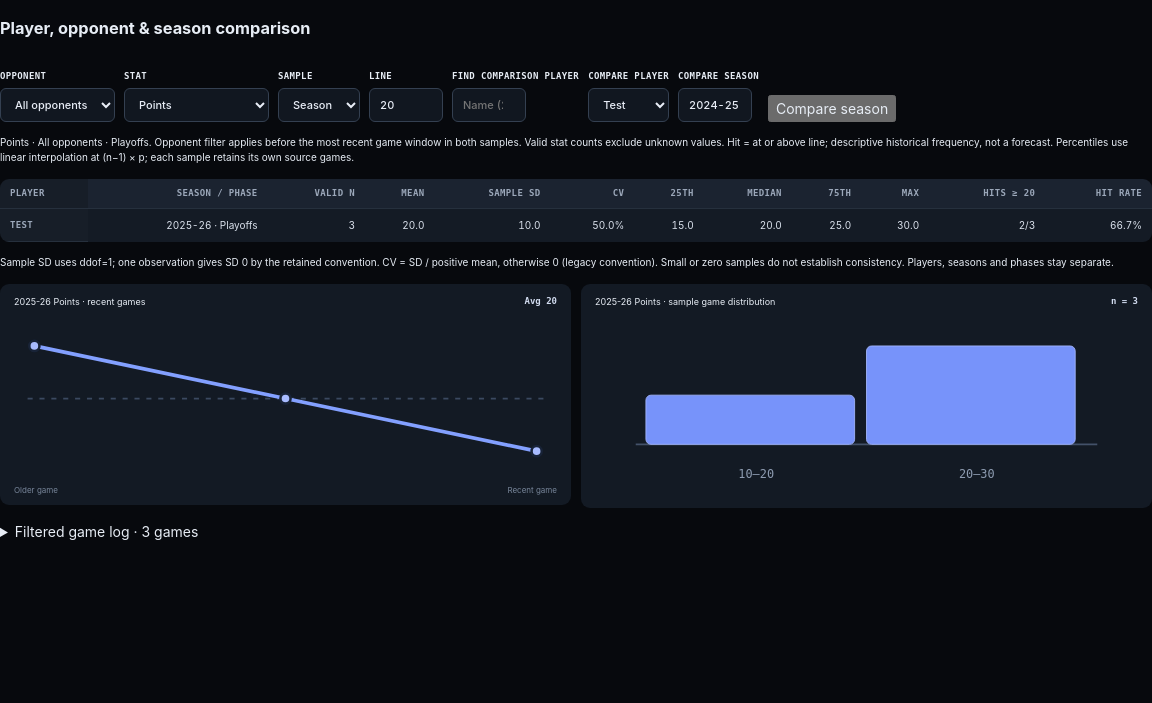
Test: filters the same opponent independently across two phase-specific seasons
Select "CLE" in the dropdown named "Profile opponent" at (58, 105), box [0, 88, 115, 122]
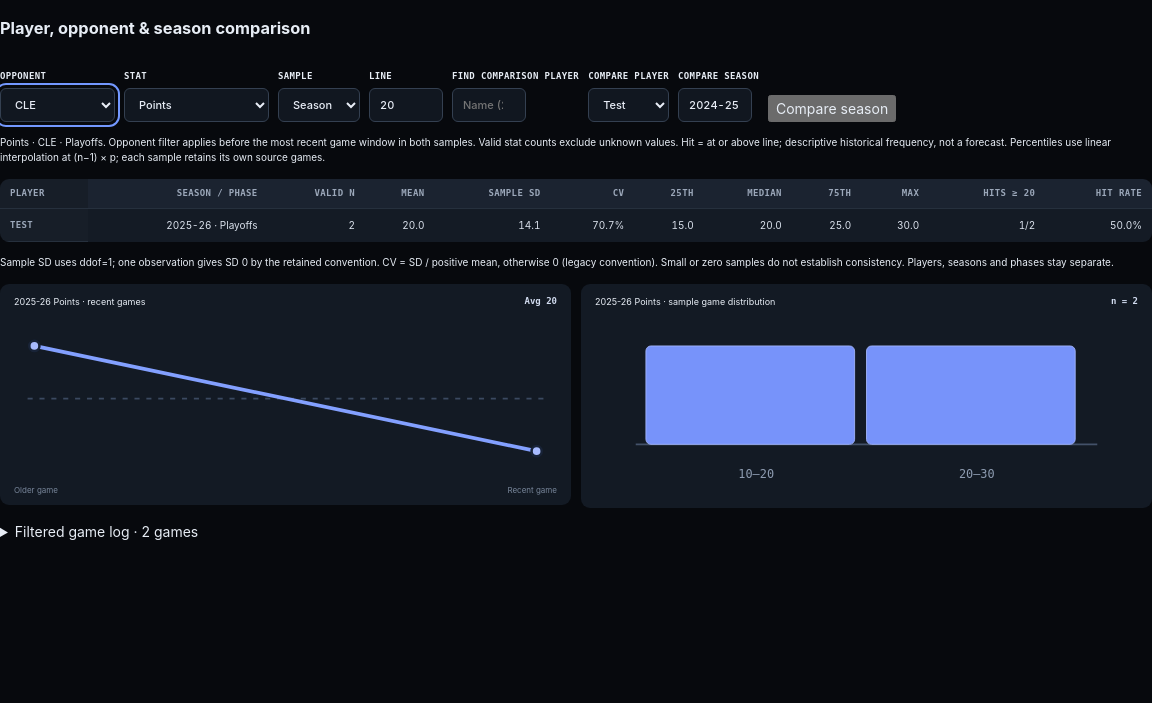
Click the button "Compare season" at (832, 108), box [768, 95, 896, 122]
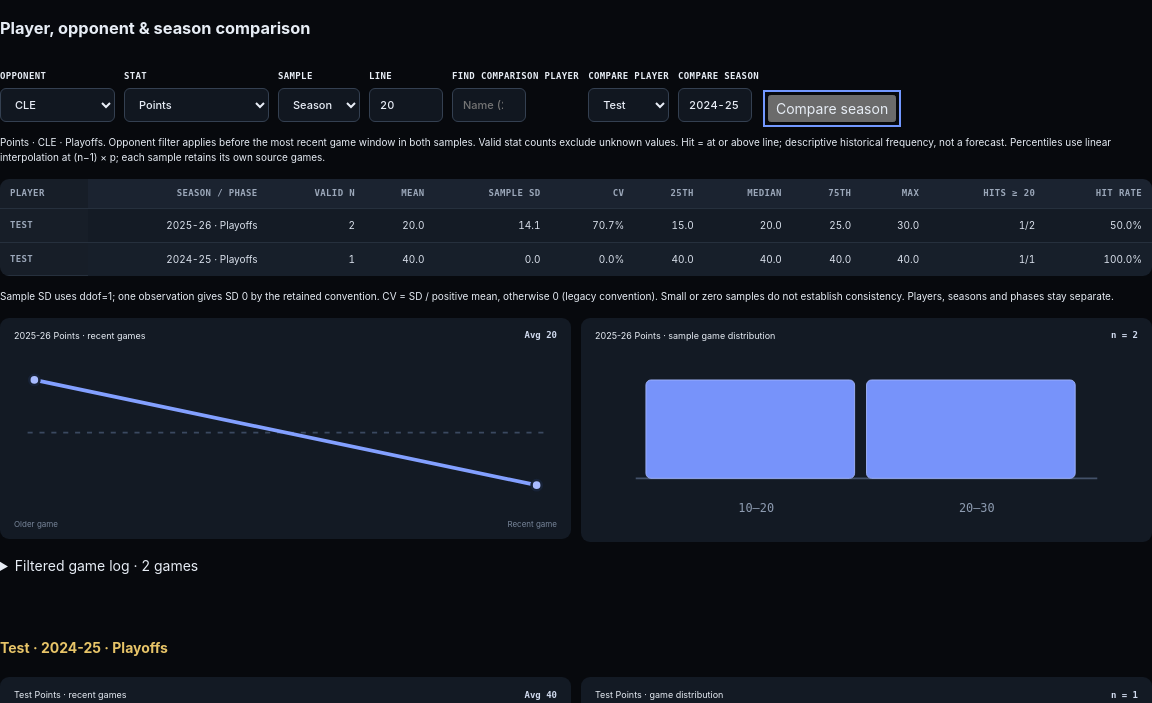
expect the text "50.0%" is shown: met, box [1045, 208, 1151, 242]
expect the text "2024-25 · Playoffs" is shown: met, box [88, 242, 268, 276]
expect the text "100.0%" is shown: met, box [1045, 242, 1151, 276]
